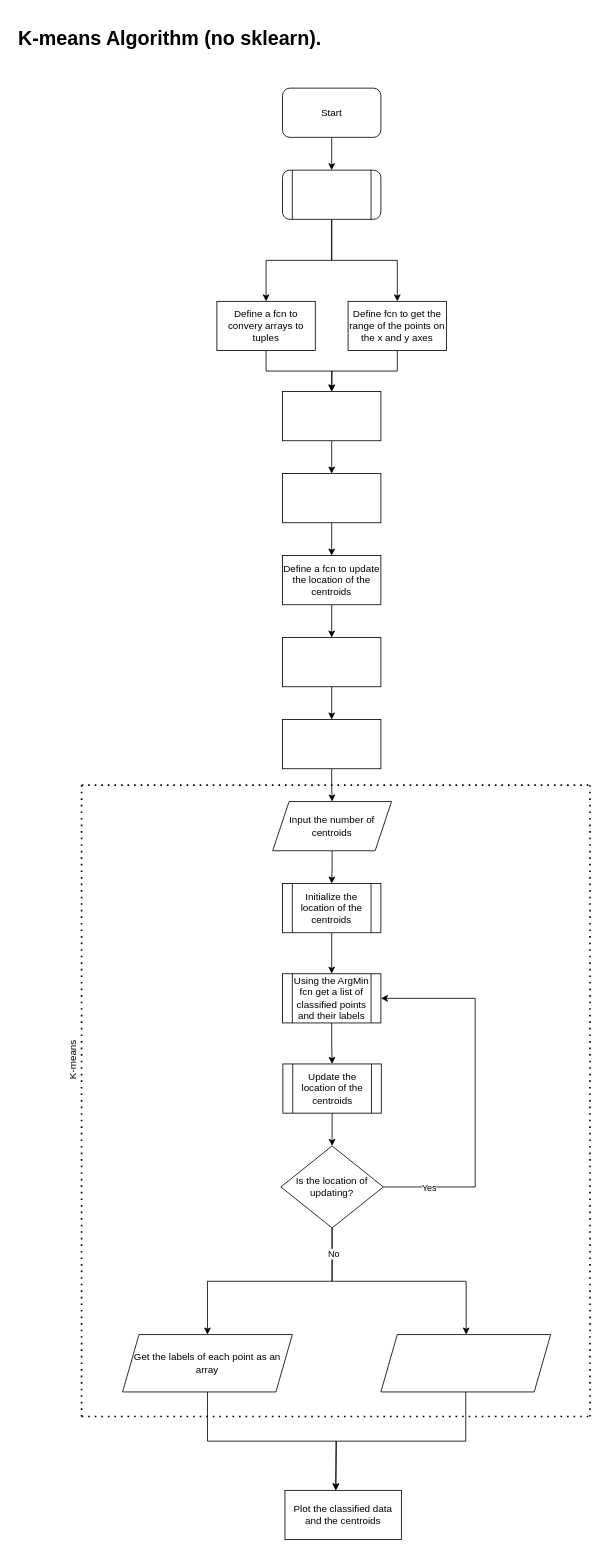
Image size: 605x1554. Some labels were removed from this diagram. Each missing label, with the centre of its shape:
Define a fcn to initialize the centroids: point 331,416
Define the ArgMin fcn: point 331,498
Generate random points on the x and y axes: point 331,662
Get the locations of the centroids: point 465,1363
Import numpy, pandas, matplotlib: point 331,194
Shuffle the random points: point 331,744
